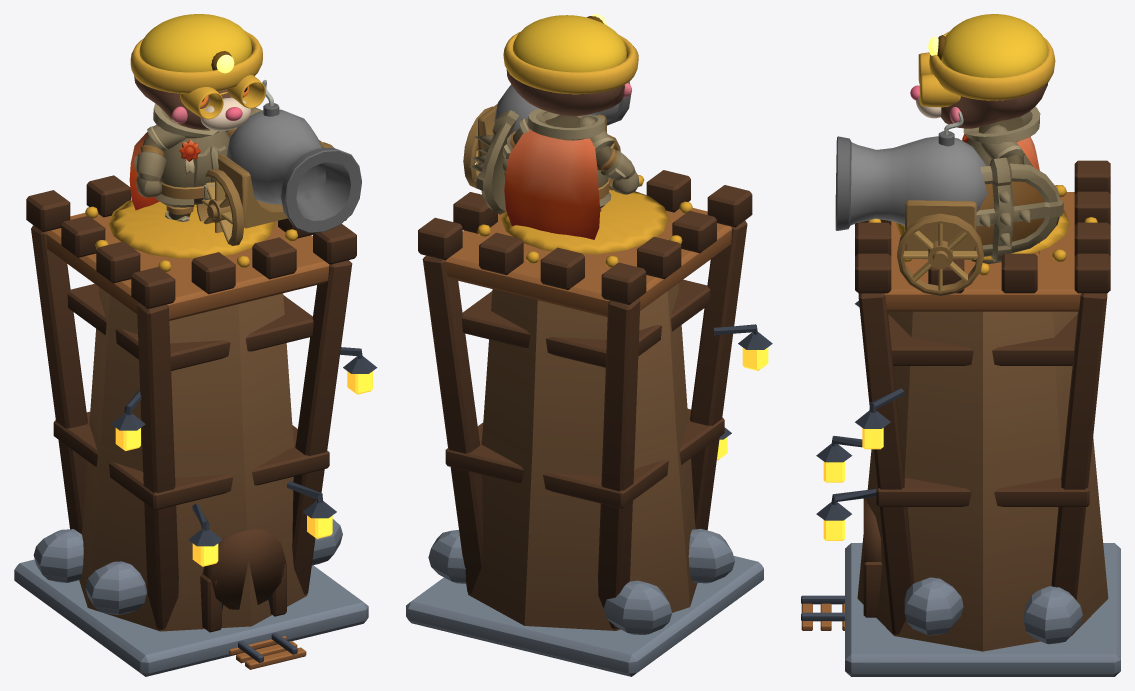
File: tower_tortoise_t2.glb
3 renders of one model, left to right at view 1: azimuth 30°, elevation 25°; view 2: azimuth 150°, elevation 25°; view 3: azimuth 270°, elevation 25°, orthographic. The views are drawn at different scales.
Visible parts, largest first — view 1: CustomTowerBase_tortoise_t2, Cannon, MoleCogHub, NativeHat_MlDome, Knight_Body, NativeHat_MlBrim, Cannon_Wheels, Knight_ArmRight, MlHead, MlSpecFrame_-1, MlMuzzle, MlSpecFrame_1 (+1 smaller); view 2: CustomTowerBase_tortoise_t2, Knight_Cape, NativeHat_MlDome, MoleCogHub, NativeHat_MlBrim, Spike_Shield, MlHead, Knight_Body, Cannon, Knight_ArmRight, Cannon_Wheels, Knight_ArmLeft; view 3: CustomTowerBase_tortoise_t2, Cannon, Spike_Shield, NativeHat_MlDome, Cannon_Wheels, NativeHat_MlBrim, MlHead, Knight_Body, MlSpecFrame_1, Knight_ArmLeft, MoleCogHub.
Boxes of the visible parts, left/top/right/bottom form: CustomTowerBase_tortoise_t2: left=14, top=175, right=377, bottom=676; Cannon: left=218, top=80, right=361, bottom=233; MoleCogHub: left=108, top=200, right=274, bottom=258; NativeHat_MlDome: left=139, top=14, right=251, bottom=72; Knight_Body: left=153, top=103, right=229, bottom=207; NativeHat_MlBrim: left=130, top=31, right=262, bottom=93; Cannon_Wheels: left=196, top=142, right=346, bottom=245; Knight_ArmRight: left=134, top=118, right=187, bottom=197; MlHead: left=134, top=75, right=243, bottom=129; MlSpecFrame_-1: left=180, top=87, right=223, bottom=119; MlMuzzle: left=200, top=97, right=251, bottom=131; MlSpecFrame_1: left=227, top=75, right=265, bottom=108; CustomTowerBase_tortoise_t2: left=406, top=170, right=772, bottom=676; Knight_Cape: left=504, top=120, right=600, bottom=239; NativeHat_MlDome: left=513, top=15, right=626, bottom=72; MoleCogHub: left=501, top=189, right=669, bottom=254; NativeHat_MlBrim: left=503, top=32, right=638, bottom=94; Spike_Shield: left=469, top=110, right=518, bottom=214; MlHead: left=506, top=69, right=624, bottom=116; Knight_Body: left=527, top=108, right=611, bottom=208; Cannon: left=478, top=82, right=631, bottom=164; Knight_ArmRight: left=578, top=117, right=639, bottom=194; Cannon_Wheels: left=463, top=106, right=620, bottom=190; Knight_ArmLeft: left=502, top=111, right=559, bottom=172; CustomTowerBase_tortoise_t2: left=801, top=160, right=1120, bottom=676; Cannon: left=835, top=112, right=986, bottom=259; Spike_Shield: left=976, top=157, right=1063, bottom=261; NativeHat_MlDome: left=941, top=14, right=1048, bottom=77; Cannon_Wheels: left=897, top=213, right=983, bottom=295; NativeHat_MlBrim: left=929, top=31, right=1055, bottom=100; MlHead: left=940, top=83, right=1047, bottom=128; Knight_Body: left=962, top=106, right=1040, bottom=166; MlSpecFrame_1: left=919, top=74, right=960, bottom=107; Knight_ArmLeft: left=981, top=124, right=1024, bottom=164; MoleCogHub: left=896, top=210, right=1069, bottom=259.
Size of the model in its own units: 0.9931 by 2.12 by 1.02.
Materials: 21 (3 with a texture image).
